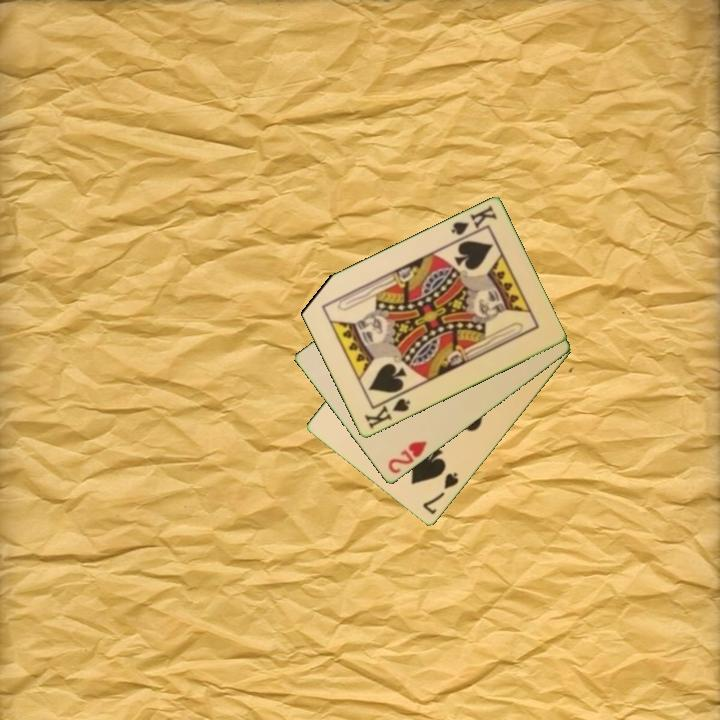2h: (384, 438, 430, 477)
7s: (419, 469, 462, 518)
Ks: (447, 202, 500, 245), (361, 390, 413, 432)
